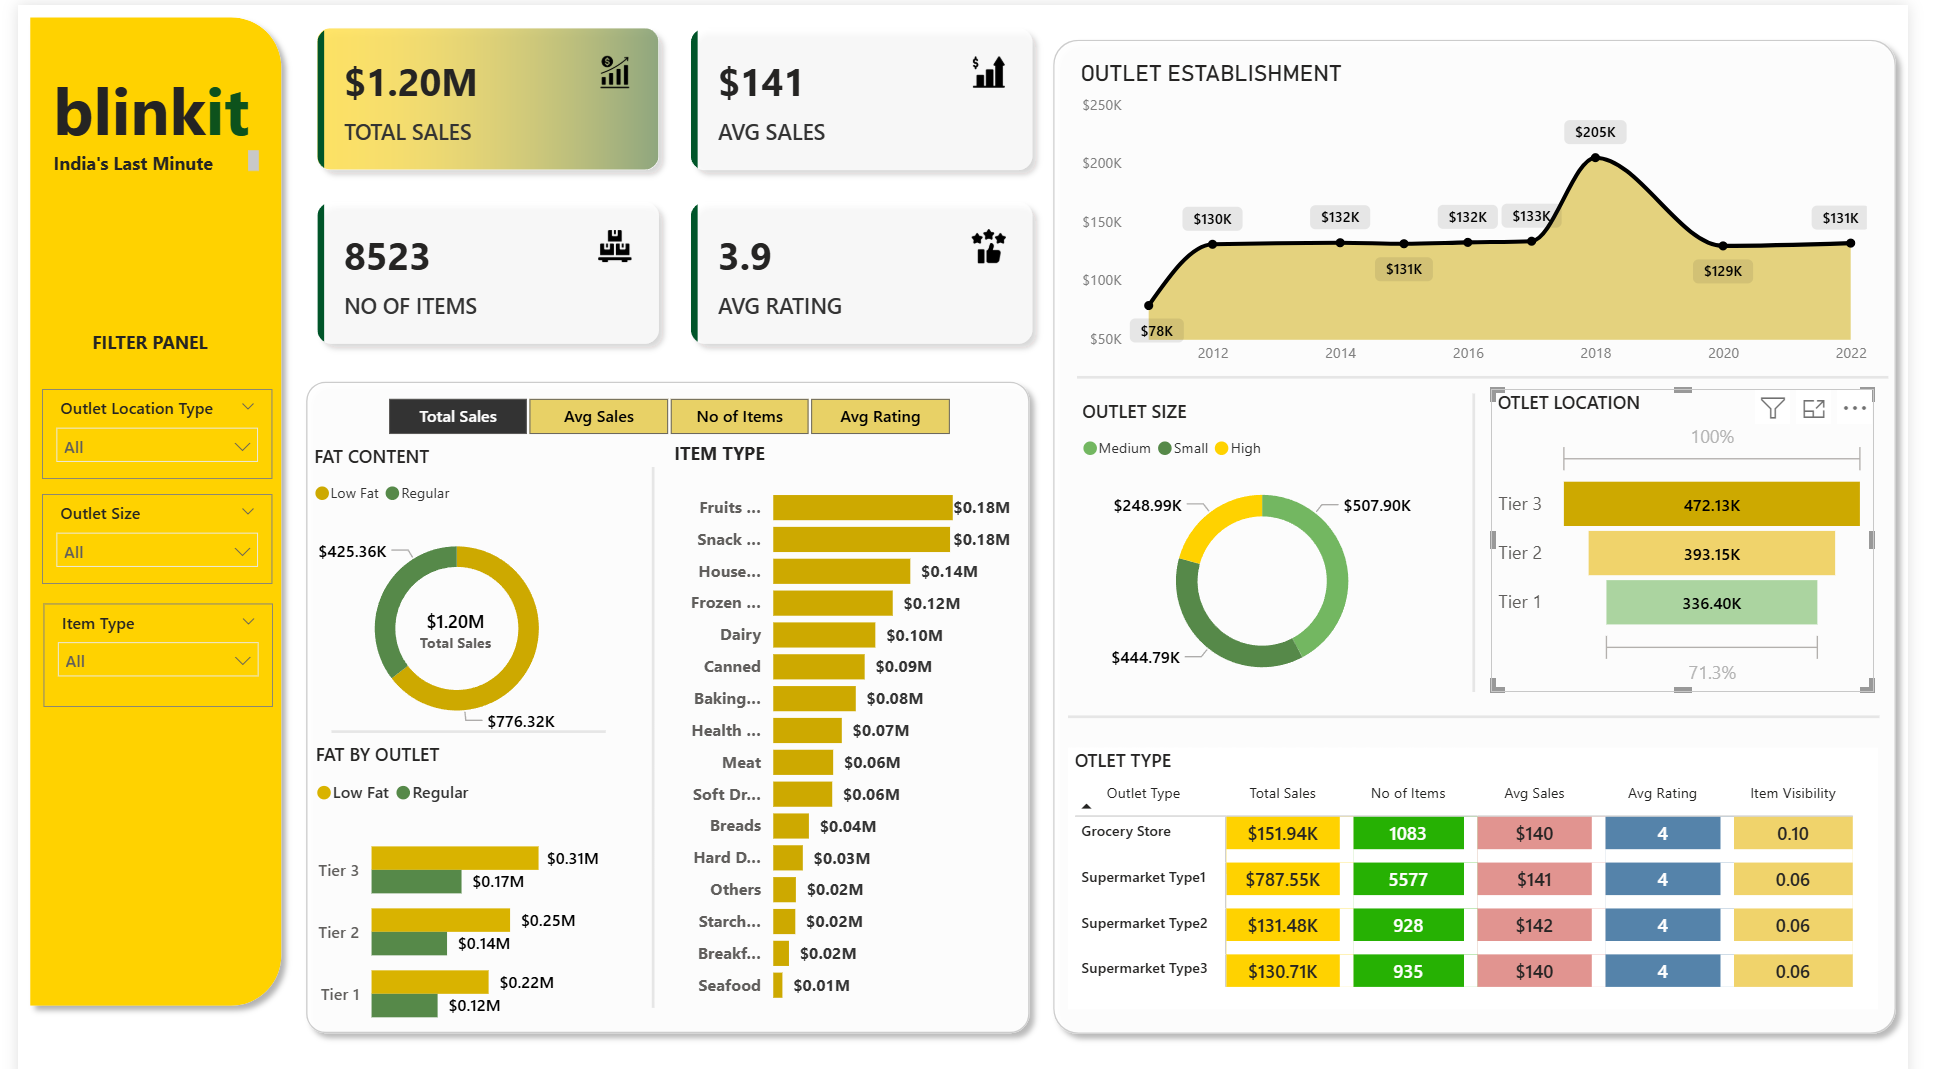

Layout of this report page (visuals, bound fields, positions):
{"tool":"powerbi","page":{"name":"Page 1","canvas":[1400,800],"ordinal":0},"visuals":[{"type":"shape","box":[0,0,204,750.3],"z":0},{"type":"textbox","box":[21.5,39.3,172.4,91.3],"z":1000},{"type":"textbox","box":[21.5,102.7,162.2,27.9],"z":2000},{"type":"cardVisual","fields":{"Data":["BlinkIT Grocery Data.Total Sales","BlinkIT Grocery Data.Avg Sales","BlinkIT Grocery Data.No Of Items","BlinkIT Grocery Data.Avg Rating"]},"box":[204,0,564,269.3],"z":3000},{"type":"shape","box":[204,269.9,553.8,500.6],"z":4000},{"type":"donutChart","title":"FAT CONTENT","fields":{"Y":["BlinkIT Grocery Data.Total Sales"],"Category":["BlinkIT Grocery Data.Item Fat Content"]},"box":[214.2,324.4,220.5,229.4],"z":5000},{"type":"slicer","fields":{"Values":["Matrics.Matrics"]},"box":[248.4,283.9,465.1,40.6],"z":6000},{"type":"cardVisual","fields":{"Data":["BlinkIT Grocery Data.Total Sales"]},"box":[261.1,420.8,126.7,84.9],"z":7000},{"type":"clusteredBarChart","title":"FAT BY OUTLET","fields":{"Y":["BlinkIT Grocery Data.Total Sales"],"Category":["BlinkIT Grocery Data.Outlet Location Type"],"Series":["BlinkIT Grocery Data.Item Fat Content"]},"box":[215.9,545.1,219.5,229.3],"z":8000},{"type":"shape","box":[231.9,526.9,203.1,23.1],"z":9000},{"type":"shape","box":[460,342.7,20.9,400.9],"z":10000},{"type":"barChart","title":"ITEM TYPE","fields":{"Y":["BlinkIT Grocery Data.Total Sales"],"Category":["BlinkIT Grocery Data.Item Type"]},"box":[481.2,322.5,258.8,427.5],"z":11000},{"type":"shape","box":[757.8,16.7,642.2,754.4],"z":12000},{"type":"lineChart","title":"OUTLET ESTABLISHMENT","fields":{"Y":["BlinkIT Grocery Data.Total Sales"],"Category":["BlinkIT Grocery Data.Outlet Establishment Year"]},"box":[782.7,40,592,234.7],"z":13000},{"type":"shape","box":[777.8,508.9,601.1,36.7],"z":14000},{"type":"donutChart","title":"OUTLET SIZE","fields":{"Y":["BlinkIT Grocery Data.Total Sales"],"Category":["BlinkIT Grocery Data.Outlet Size"]},"box":[783.2,291.4,275.8,225.8],"z":15000},{"type":"shape","box":[1072.2,287.8,12.2,221.1],"z":16000},{"type":"funnel","title":"OTLET LOCATION","fields":{"Y":["Sum(BlinkIT Grocery Data.Sales)"],"Category":["BlinkIT Grocery Data.Outlet Location Type"]},"box":[1091.5,284.1,282.9,224.4],"z":17000},{"type":"shape","box":[784,258,601,36],"z":18000},{"type":"pivotTable","title":"OTLET TYPE","fields":{"Rows":["BlinkIT Grocery Data.Outlet Type"],"Values":["BlinkIT Grocery Data.Total Sales","BlinkIT Grocery Data.No of Items","BlinkIT Grocery Data.Avg Sales","BlinkIT Grocery Data.Avg Rating","Avg(BlinkIT Grocery Data.Item Visibility)"]},"box":[778,550,600,194],"z":19000},{"type":"slicer","fields":{"Values":["BlinkIT Grocery Data.Outlet Location Type"]},"box":[18.2,284.5,170.9,66.4],"z":20000},{"type":"slicer","fields":{"Values":["BlinkIT Grocery Data.Outlet Size"]},"box":[18.2,362.7,170.9,66.4],"z":21000},{"type":"slicer","fields":{"Values":["BlinkIT Grocery Data.Item Type"]},"box":[19.1,443.6,170,76.4],"z":22000},{"type":"textbox","box":[50,234.5,108.2,34.5],"z":23000}]}

Visuals, with their boxes on the page's 1400x800 design canvas (x1, y1, x2, y2). These are canvas units, not pixel positions in the 1936x1069 screenshot, which may show the page scaled, cropped or inside an application window:
shape: [x1=0, y1=0, x2=204, y2=750]
textbox: [x1=22, y1=39, x2=194, y2=131]
textbox: [x1=22, y1=103, x2=184, y2=131]
cardVisual - BlinkIT Grocery Data.Total Sales x BlinkIT Grocery Data.Avg Sales: [x1=204, y1=0, x2=768, y2=269]
shape: [x1=204, y1=270, x2=758, y2=770]
"FAT CONTENT" donutChart: [x1=214, y1=324, x2=435, y2=554]
slicer - Matrics.Matrics: [x1=248, y1=284, x2=714, y2=324]
cardVisual - BlinkIT Grocery Data.Total Sales: [x1=261, y1=421, x2=388, y2=506]
"FAT BY OUTLET" clusteredBarChart: [x1=216, y1=545, x2=435, y2=774]
shape: [x1=232, y1=527, x2=435, y2=550]
shape: [x1=460, y1=343, x2=481, y2=744]
"ITEM TYPE" barChart: [x1=481, y1=322, x2=740, y2=750]
shape: [x1=758, y1=17, x2=1400, y2=771]
"OUTLET ESTABLISHMENT" lineChart: [x1=783, y1=40, x2=1375, y2=275]
shape: [x1=778, y1=509, x2=1379, y2=546]
"OUTLET SIZE" donutChart: [x1=783, y1=291, x2=1059, y2=517]
shape: [x1=1072, y1=288, x2=1084, y2=509]
"OTLET LOCATION" funnel: [x1=1092, y1=284, x2=1374, y2=508]
shape: [x1=784, y1=258, x2=1385, y2=294]
"OTLET TYPE" pivotTable: [x1=778, y1=550, x2=1378, y2=744]
slicer - BlinkIT Grocery Data.Outlet Location Type: [x1=18, y1=284, x2=189, y2=351]
slicer - BlinkIT Grocery Data.Outlet Size: [x1=18, y1=363, x2=189, y2=429]
slicer - BlinkIT Grocery Data.Item Type: [x1=19, y1=444, x2=189, y2=520]
textbox: [x1=50, y1=234, x2=158, y2=269]
